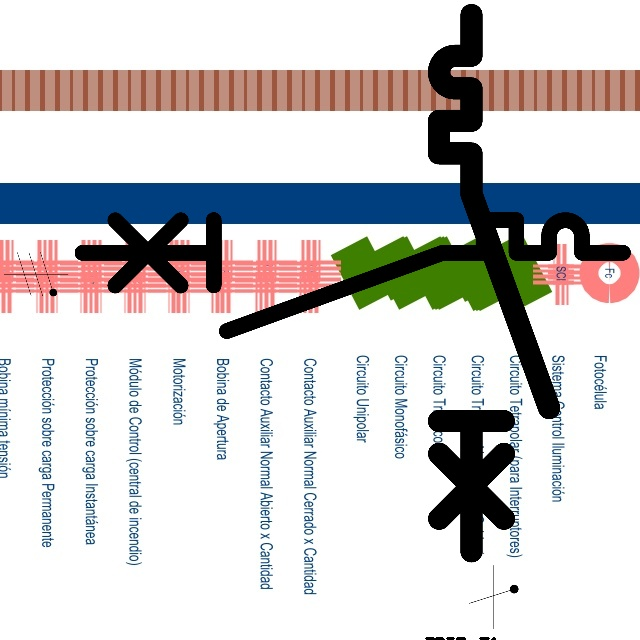interruptor_termomagnetico: (68, 206, 637, 345), (425, 1, 563, 565)
